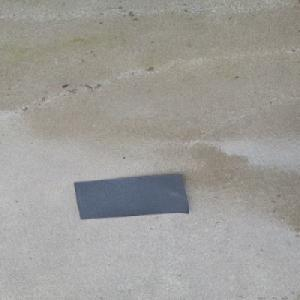PaintChip: (74, 174, 190, 220)
